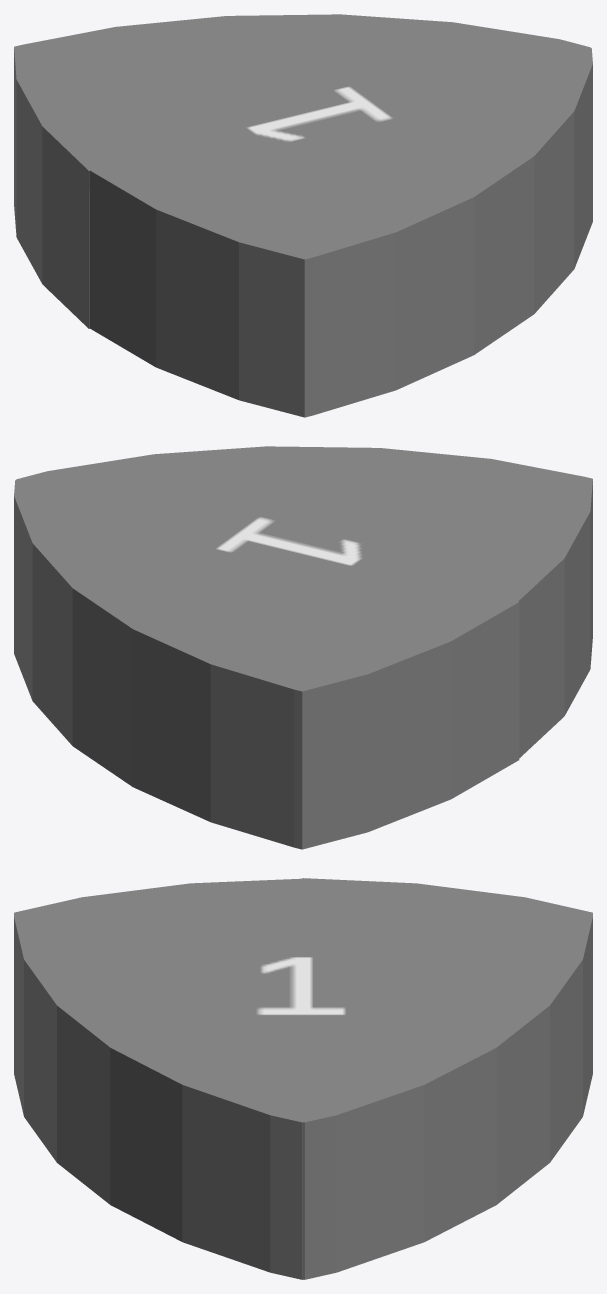
Rendered from button1grey.fbx.
The picture shows the model from 3 angles, top to bottom: view 1: azimuth 30°, elevation 25°; view 2: azimuth 150°, elevation 25°; view 3: azimuth 270°, elevation 25°; orthographic projection.
Visible parts, largest first — view 1: Button10; view 2: Button10; view 3: Button10.
Boxes of the visible parts, left/top/right/bottom form: Button10: left=14, top=14, right=592, bottom=417; Button10: left=14, top=446, right=592, bottom=849; Button10: left=14, top=878, right=592, bottom=1279.
Size of the model in its own units: 200 by 60 by 200.
Materials: 1 (1 with a texture image).
